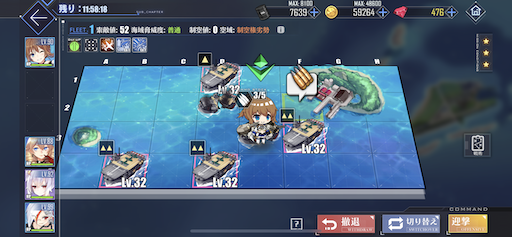lv1: (197, 50, 240, 92)
lv2: (190, 139, 240, 186), (99, 140, 147, 188), (279, 105, 326, 154)
